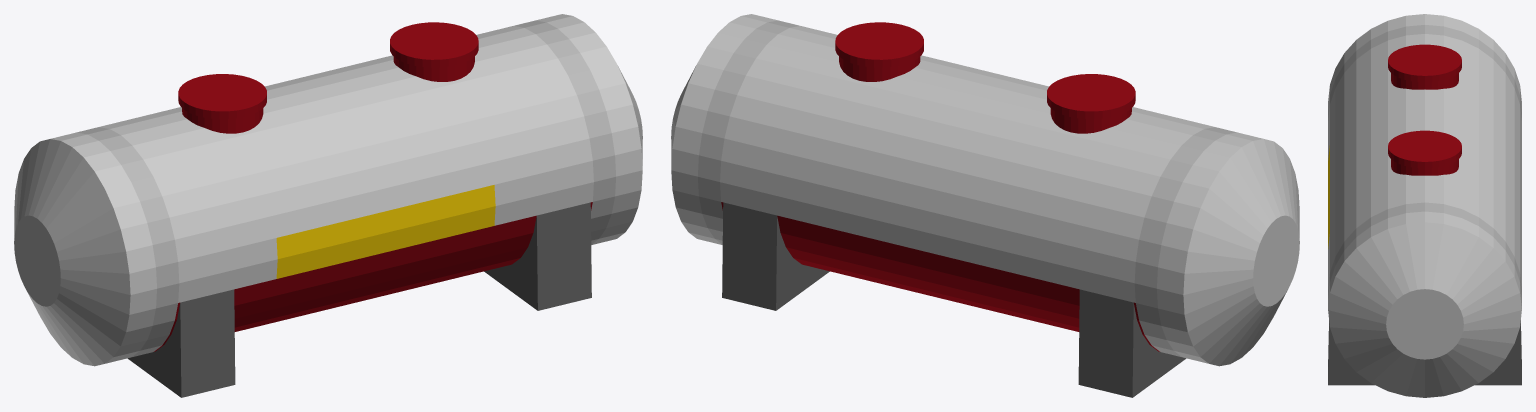
File: Deisel Tank.fbx
The picture shows the model from 3 angles, left to right: view 1: azimuth 30°, elevation 25°; view 2: azimuth 150°, elevation 25°; view 3: azimuth 270°, elevation 25°; orthographic projection. The views are drawn at different scales.
Parts seen in each view (by area): view 1: Tank, Cylinder, Cylinder.001; view 2: Tank, Cylinder, Cylinder.001; view 3: Tank, Cylinder.001, Cylinder.
Boxes of the visible parts, left/top/right/bottom form: Tank: left=14, top=14, right=642, bottom=366; Cylinder: left=127, top=202, right=591, bottom=397; Cylinder.001: left=178, top=22, right=478, bottom=133; Tank: left=671, top=14, right=1299, bottom=366; Cylinder: left=722, top=202, right=1186, bottom=397; Cylinder.001: left=835, top=22, right=1135, bottom=133; Tank: left=1328, top=14, right=1521, bottom=397; Cylinder.001: left=1388, top=44, right=1461, bottom=175; Cylinder: left=1328, top=320, right=1521, bottom=385.
Bounding box in the file's own units: 578 × 226 × 200.
